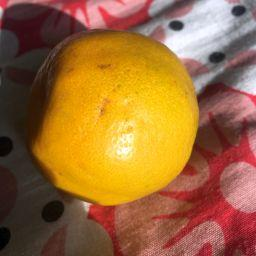orange: (26, 29, 201, 208)
